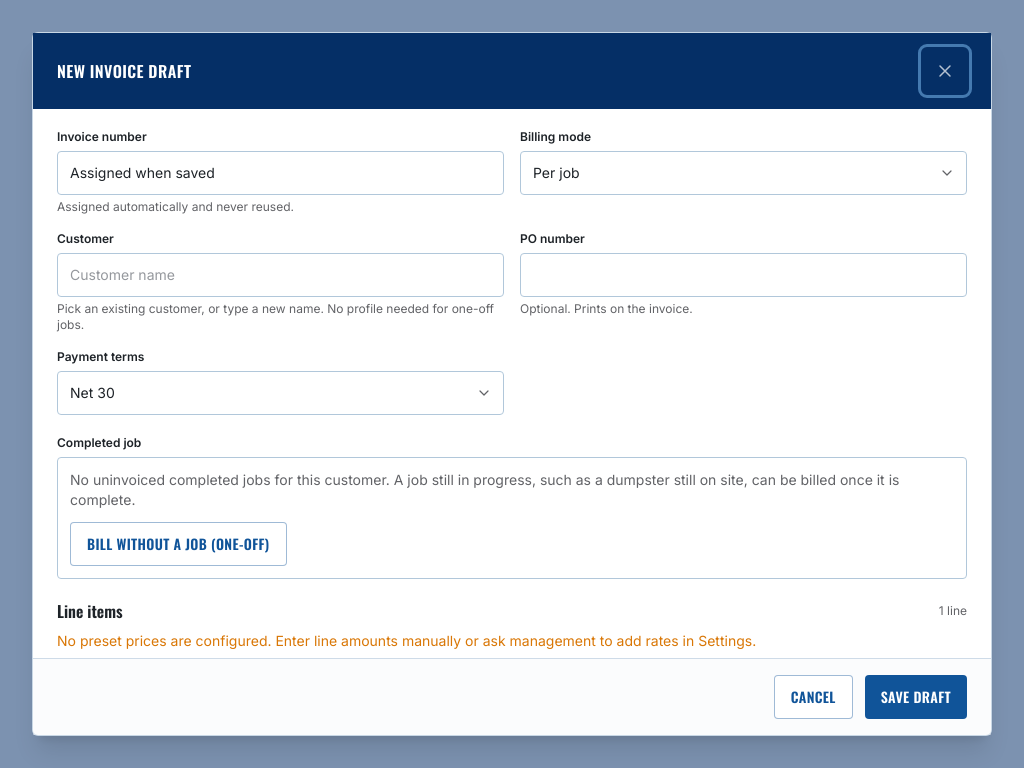
Test case: InvoiceModal — an extension for a customer with no job to bill › adds an extended rental line at $75 a week that the office can change
Type "John Evans" into the field labelled "Customer" at (280, 275), box [57,253,504,297]
(page scrolled)
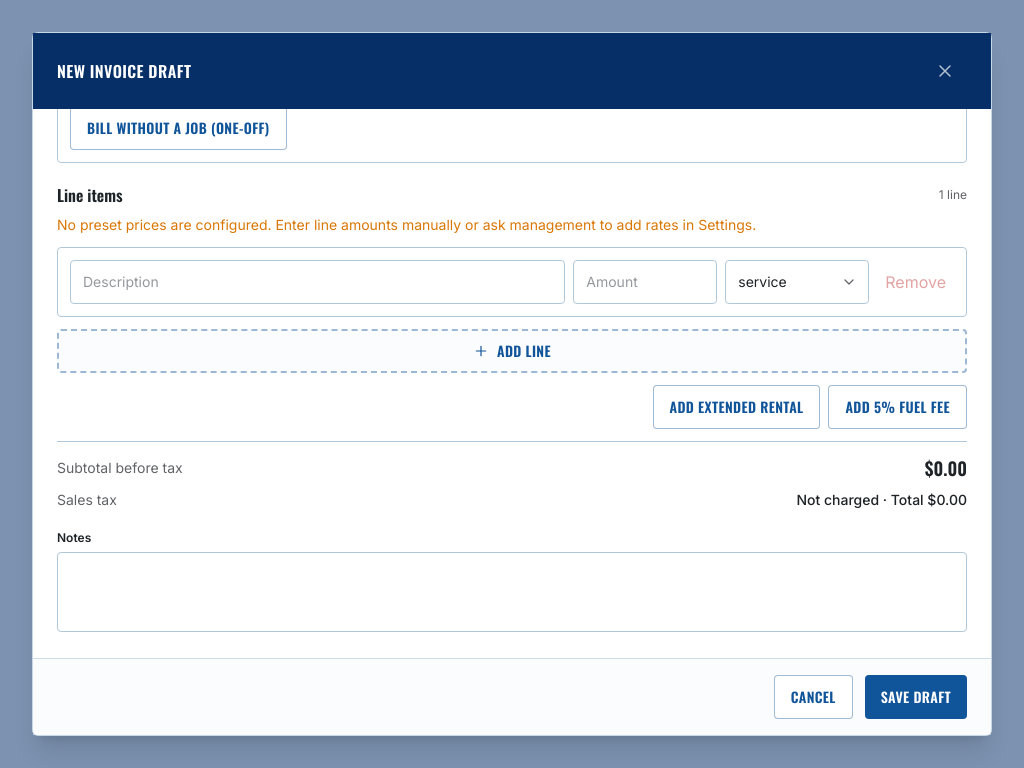
Click the button "Add extended rental" at (736, 407), box [653,385,820,429]
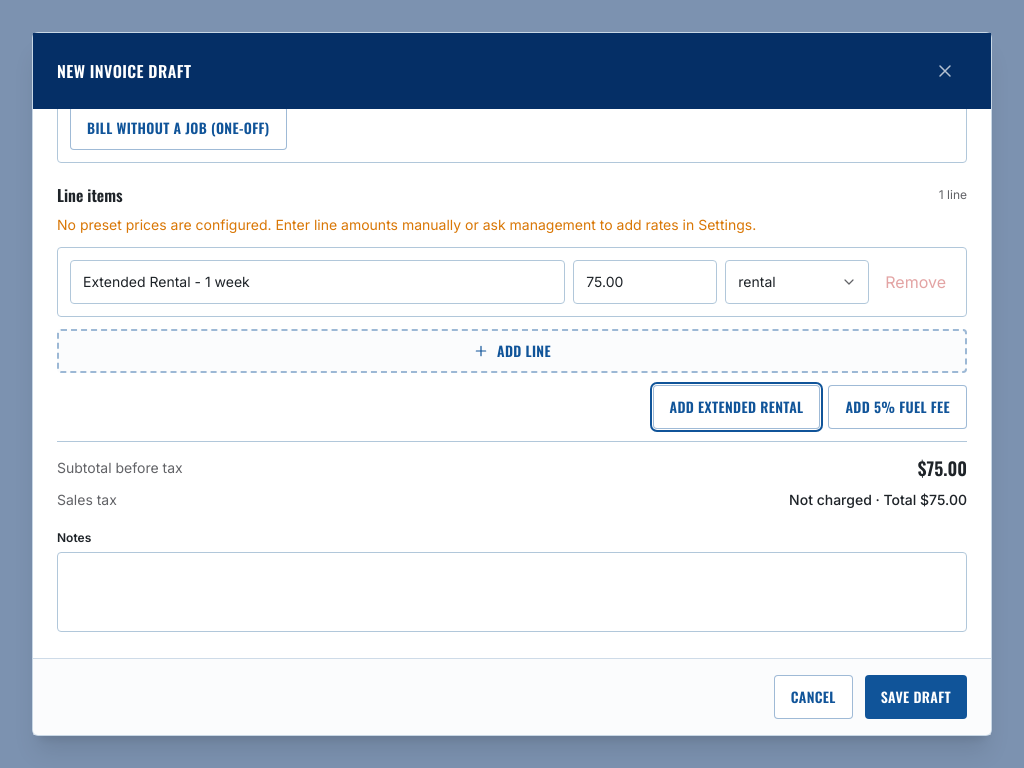
Check: the field named "Line 1 description" holds "Extended Rental - 1 week", box [70,260,565,304]
Check: the dropdown named "Line 1 category" shows "rental", box [725,260,869,304]
Check: the number field named "Line 1 amount" holds "75", box [573,260,717,304]
